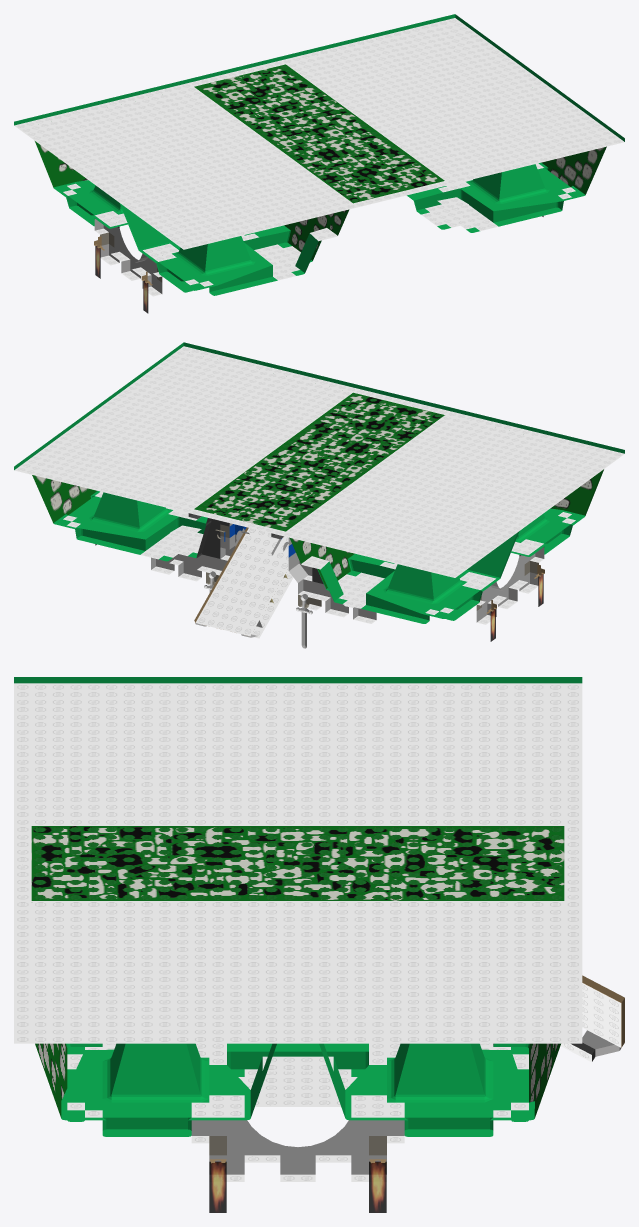
3 renders of one model, top to bottom at view 1: azimuth 30°, elevation 25°; view 2: azimuth 150°, elevation 25°; view 3: azimuth 270°, elevation 25°, orthographic. The views are drawn at different scales.
Parts seen in each view (by area): view 1: 031_L_3027100_Texture, 040_OC6098-1_Side_arch; view 2: 031_L_3027100_Texture, 012_L_244400_3, 018_OC6098-1_Bridge_support_R, 040_OC6098-1_Side_arch, 023_OC6098-1_Bridge_support_L, 004_OC6098-1_Bridge_edge; view 3: 031_L_3027100_Texture, 034_OC6098-1_Side_arch, 012_L_244400_3, 045_Flame_Plate, 047_Flame_Plate, 008_OC6098-1_Bridge_edge.
Part boxes in pixels (x1,y1,x2,y2): 031_L_3027100_Texture: (14,14,624,295); 040_OC6098-1_Side_arch: (94,219,162,296); 031_L_3027100_Texture: (14,342,624,623); 012_L_244400_3: (194,526,288,636); 018_OC6098-1_Bridge_support_R: (151,513,243,581); 040_OC6098-1_Side_arch: (476,547,544,624); 023_OC6098-1_Bridge_support_L: (271,533,376,623); 004_OC6098-1_Bridge_edge: (241,569,293,638); 031_L_3027100_Texture: (14,677,582,1136); 034_OC6098-1_Side_arch: (191,1120,404,1181); 012_L_244400_3: (582,975,624,1047); 045_Flame_Plate: (209,1161,226,1212); 047_Flame_Plate: (369,1161,386,1212); 008_OC6098-1_Bridge_edge: (560,1030,621,1062).
Bounding box in the file's own units: 38.4 × 11.17 × 27.53.
17 materials, 9 textured.
